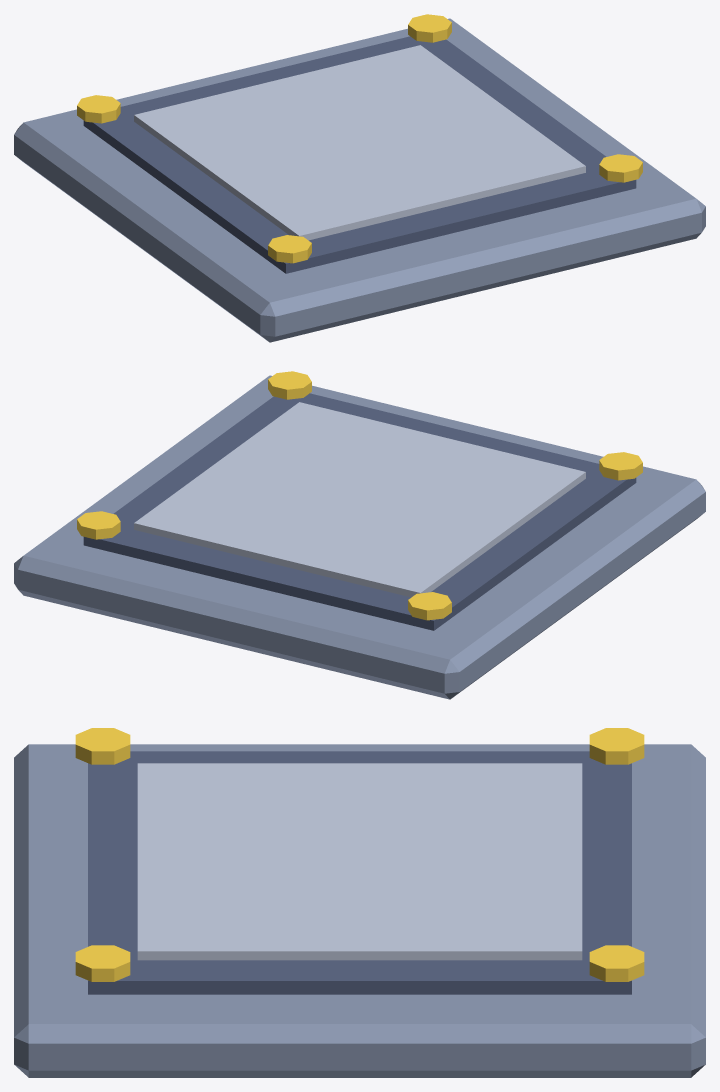
The model's file is path_tile.glb.
3 renders of one model, top to bottom at view 1: azimuth 30°, elevation 25°; view 2: azimuth 150°, elevation 25°; view 3: azimuth 270°, elevation 25°, orthographic. The views are drawn at different scales.
Visible parts, largest first — view 1: path_tile; view 2: path_tile; view 3: path_tile.
Boxes of the visible parts, left/top/right/bottom form: path_tile: left=14, top=14, right=705, bottom=342; path_tile: left=14, top=371, right=705, bottom=699; path_tile: left=14, top=728, right=705, bottom=1077.
Bounding box in the file's own units: 1.4 × 0.2 × 1.4.
